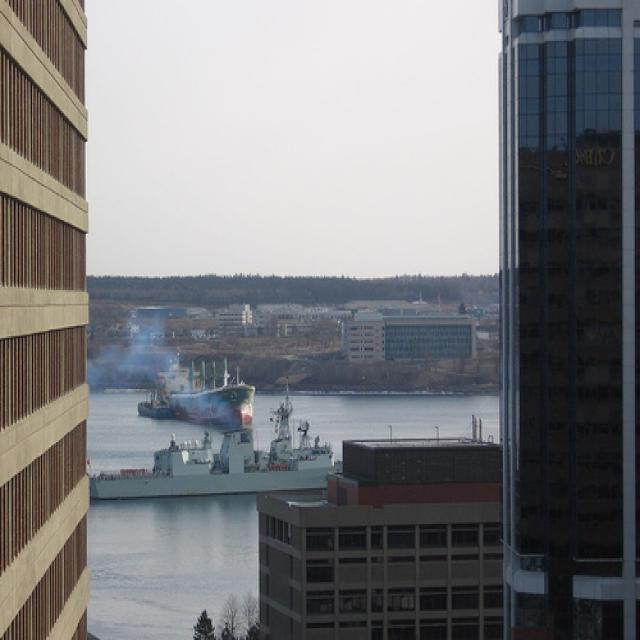boat: (86, 401, 344, 500), (157, 347, 257, 433), (137, 388, 174, 421)
